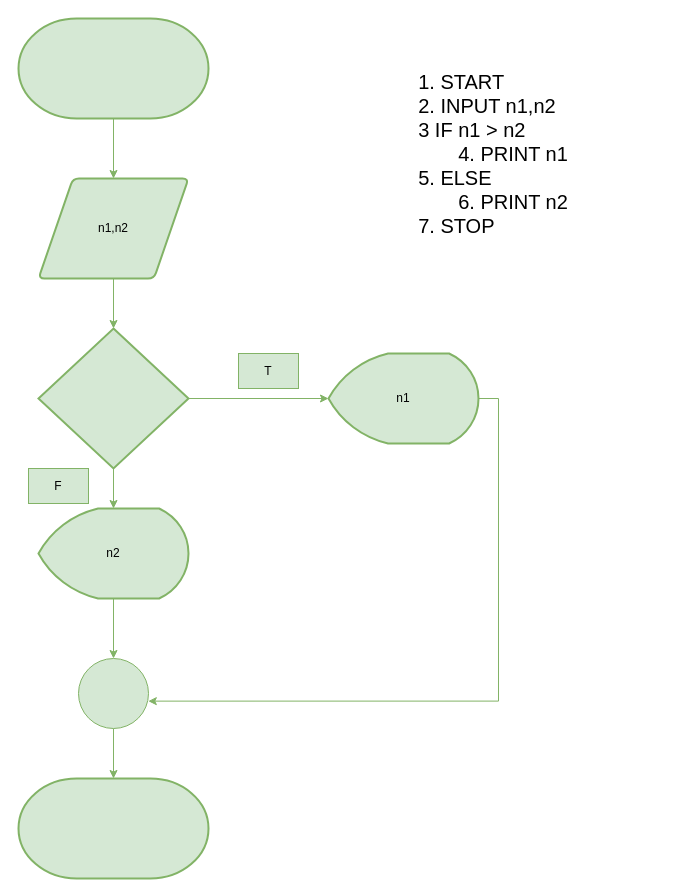
This 675x896 diagram has some shape labels left out. The centre of each missing label's shape, as x and y in pixels:
"n1 > n2" belongs at point 113,398.
"START" belongs at point 113,68.
"STOP" belongs at point 113,828.
